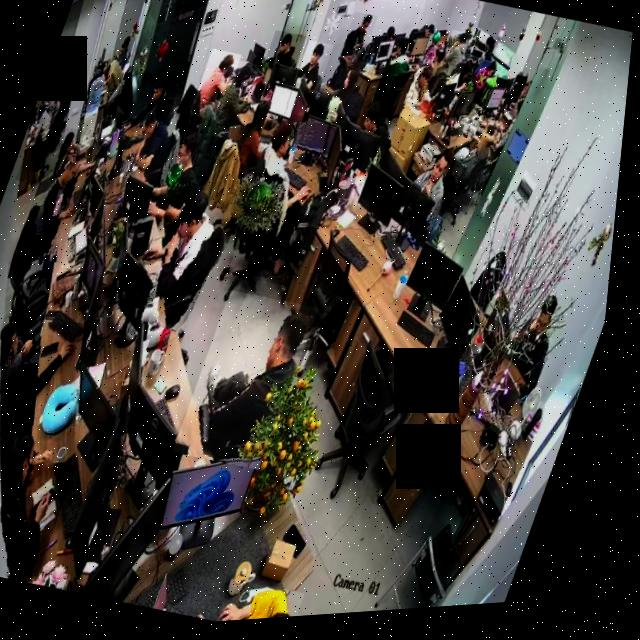person: (179, 288, 327, 479), (221, 114, 350, 294), (122, 181, 249, 342), (0, 452, 87, 587), (24, 145, 102, 266), (140, 129, 218, 249), (0, 309, 91, 411), (500, 293, 576, 410), (404, 149, 469, 234), (229, 101, 290, 189), (122, 105, 185, 188), (445, 119, 511, 198), (209, 61, 269, 146), (17, 91, 70, 186), (229, 578, 319, 625), (125, 72, 183, 141), (191, 50, 243, 125), (405, 63, 456, 122), (326, 71, 374, 124), (338, 16, 379, 74), (293, 43, 335, 99), (437, 35, 476, 90), (356, 102, 401, 149), (381, 42, 420, 93), (264, 32, 307, 76), (58, 126, 99, 166), (473, 40, 502, 74)
